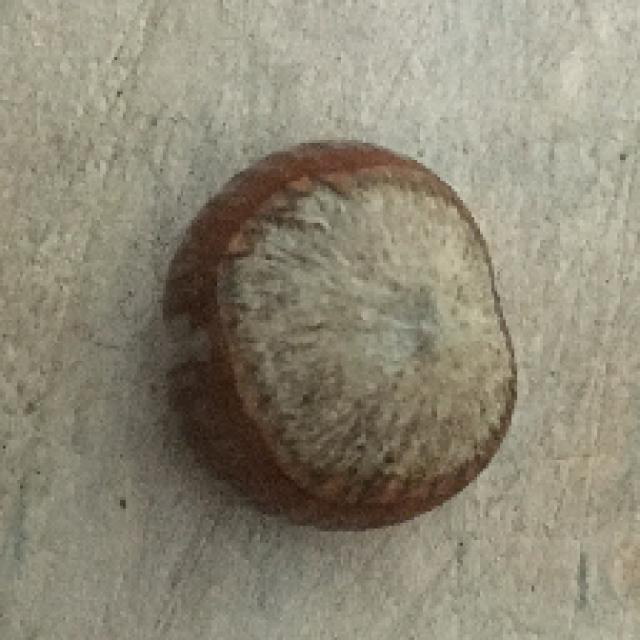qualityHazelnut: (137, 129, 548, 543)
